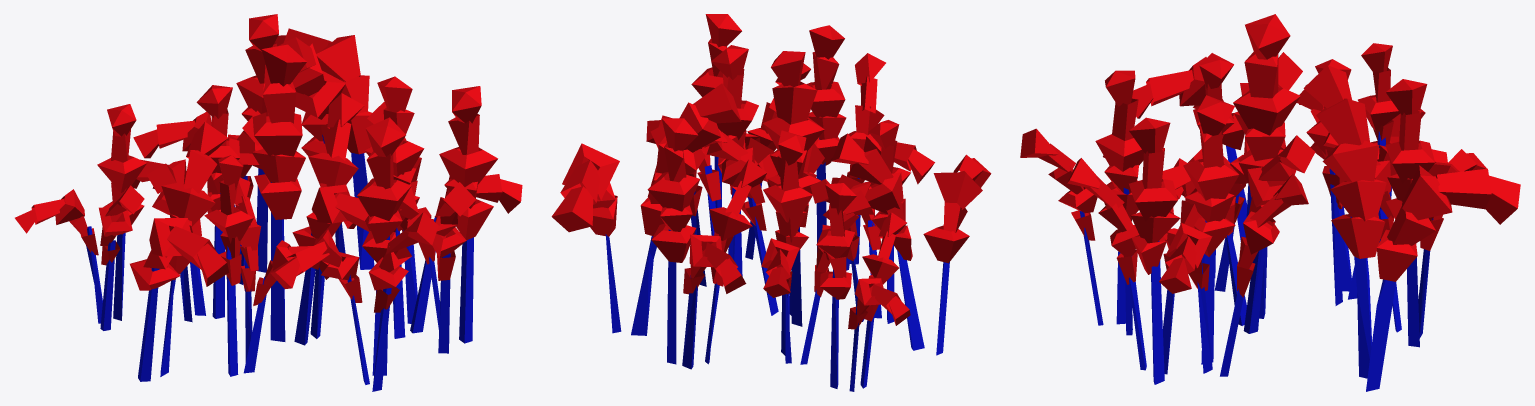
File: SM_Grass1.fbx
The picture shows the model from 3 angles, left to right: view 1: azimuth 30°, elevation 25°; view 2: azimuth 150°, elevation 25°; view 3: azimuth 270°, elevation 25°; orthographic projection. The views are drawn at different scales.
Parts seen in each view (by area): view 1: SM_Grass1; view 2: SM_Grass1; view 3: SM_Grass1.
Boxes of the visible parts, box(x1,y1,x2,y2) form: SM_Grass1: box(15, 14, 522, 391); SM_Grass1: box(551, 14, 991, 391); SM_Grass1: box(1020, 14, 1520, 391).
Size of the model in its own units: 73.57 by 52.18 by 78.7.
